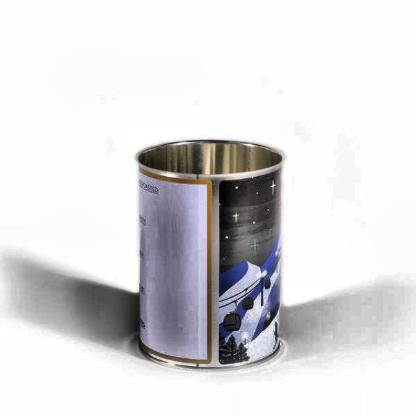Can: (134, 140, 288, 370)
